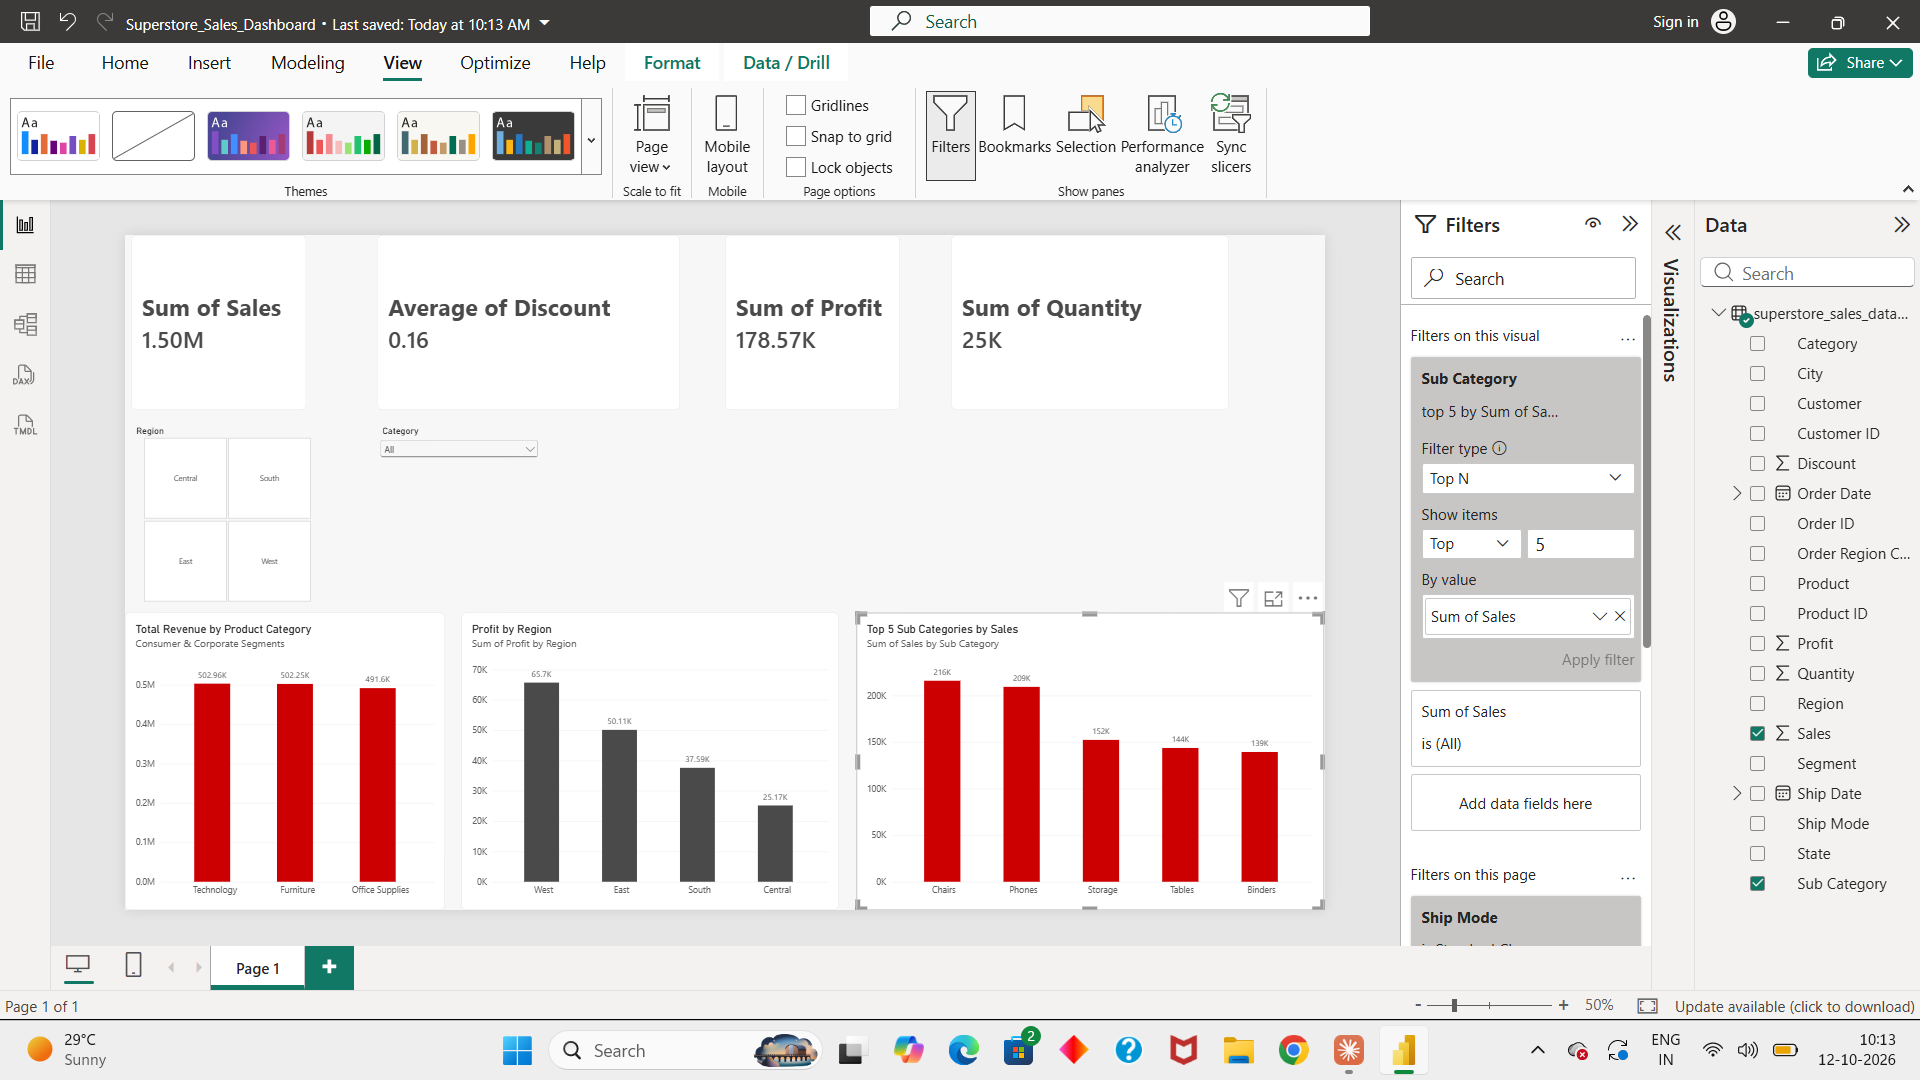

The dashboard page shown, as its layout file describes it:
{"tool":"powerbi","page":{"name":"Sales Dashboard","canvas":[1920,1080],"ordinal":0},"visuals":[{"type":"cardVisual","fields":{"Data":["Sum(superstore_sales_dataset.Sales)"]},"box":[454.2,0,383.6,240.7],"z":0},{"type":"cardVisual","fields":{"Data":["Sum(superstore_sales_dataset.Profit)"]},"box":[1248.7,1.8,336.6,240.7],"z":1},{"type":"cardVisual","fields":{"Data":["Sum(superstore_sales_dataset.Quantity)"]},"box":[1585.3,0,334.8,240.7],"z":2},{"type":"cardVisual","fields":{"Data":["Avg(superstore_sales_dataset.Discount)"]},"box":[837.9,0,410.8,240.7],"z":3},{"type":"clusteredColumnChart","title":"Total Revenue by Product Category","fields":{"Category":["superstore_sales_dataset.Category"],"Y":["Sum(superstore_sales_dataset.Sales)"]},"box":[602.6,568.2,646,512.1],"z":4},{"type":"clusteredColumnChart","title":"Profit by Region","fields":{"Category":["superstore_sales_dataset.Region"],"Y":["Sum(superstore_sales_dataset.Profit)"]},"box":[0,568.2,602.6,512.1],"z":5},{"type":"clusteredColumnChart","title":"Top 5 Sub Categories by Sales","fields":{"Category":["superstore_sales_dataset.Sub Category"],"Y":["Sum(superstore_sales_dataset.Sales)"]},"box":[1248.7,242.5,671.4,837.9],"z":6},{"type":"slicer","fields":{"Values":["superstore_sales_dataset.Region"]},"box":[475.9,240.7,483.2,327.5],"z":7},{"type":"slicer","fields":{"Values":["superstore_sales_dataset.Category"]},"box":[939.2,240.7,309.5,327.5],"z":8},{"type":"image","box":[0,0,432,240],"z":9},{"type":"shape","box":[0,216,456,24],"z":10},{"type":"shape","box":[432,0,24,240],"z":11},{"type":"shape","box":[0,256,480,304],"z":15},{"type":"textbox","box":[0,256,480,304],"z":16},{"type":"image","box":[0,256,80,80],"z":17}]}

Visuals, with their boxes on the page's 1920x1080 design canvas (x1, y1, x2, y2). These are canvas units, not pixel positions in the 1920x1080 screenshot, which may show the page scaled, cropped or inside an application window:
cardVisual - Sum(superstore_sales_dataset.Sales): bbox=[454, 0, 838, 241]
cardVisual - Sum(superstore_sales_dataset.Profit): bbox=[1249, 2, 1585, 242]
cardVisual - Sum(superstore_sales_dataset.Quantity): bbox=[1585, 0, 1920, 241]
cardVisual - Avg(superstore_sales_dataset.Discount): bbox=[838, 0, 1249, 241]
"Total Revenue by Product Category" clusteredColumnChart: bbox=[603, 568, 1249, 1080]
"Profit by Region" clusteredColumnChart: bbox=[0, 568, 603, 1080]
"Top 5 Sub Categories by Sales" clusteredColumnChart: bbox=[1249, 242, 1920, 1080]
slicer - superstore_sales_dataset.Region: bbox=[476, 241, 959, 568]
slicer - superstore_sales_dataset.Category: bbox=[939, 241, 1249, 568]
image: bbox=[0, 0, 432, 240]
shape: bbox=[0, 216, 456, 240]
shape: bbox=[432, 0, 456, 240]
shape: bbox=[0, 256, 480, 560]
textbox: bbox=[0, 256, 480, 560]
image: bbox=[0, 256, 80, 336]
